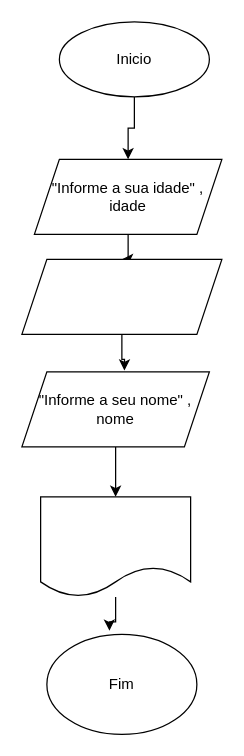
Image size: 244x756. Some labels were removed from this diagram. Here are the shapes that lost their labels. From the top down, the centre of each, then its label:
the point at 121,296: "Informe a seu peso" , peso
the point at 115,546: "Você tem" , idade , "de idade", "Você pesa" , peso , "Você se chama" , nome
